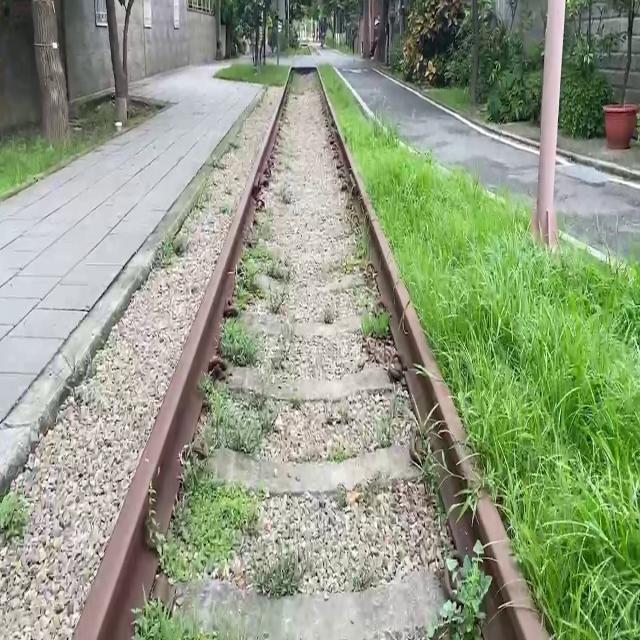rail-track: (162, 70, 450, 605)
